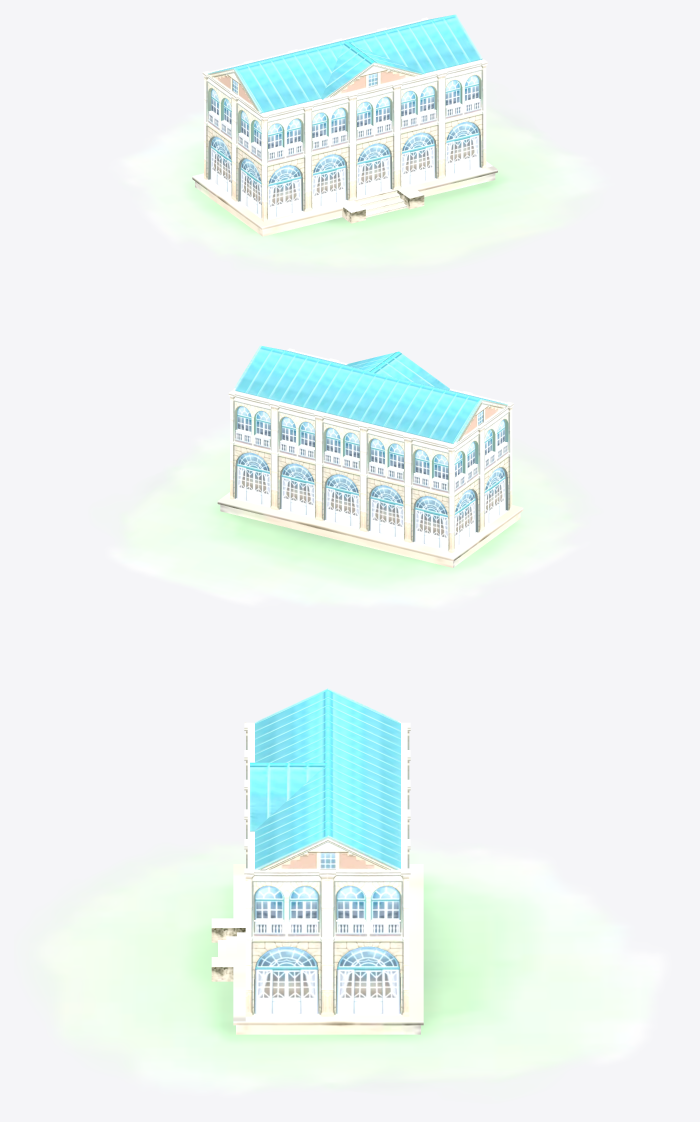
The model's file is BLD_AquPalace.glb.
The picture shows the model from 3 angles, top to bottom: view 1: azimuth 30°, elevation 25°; view 2: azimuth 150°, elevation 25°; view 3: azimuth 270°, elevation 25°; orthographic projection. The views are drawn at different scales.
Visible parts, largest first — view 1: Cube.001_Mansion_0; view 2: Cube.001_Mansion_0; view 3: Cube.001_Mansion_0.
Part boxes in pixels (left/top/right/bottom): Cube.001_Mansion_0: left=113, top=14, right=607, bottom=272; Cube.001_Mansion_0: left=107, top=345, right=585, bottom=609; Cube.001_Mansion_0: left=29, top=688, right=669, bottom=1095.
Size of the model in its own units: 1477 by 474 by 1477.
Materials: 1 (1 with a texture image).
